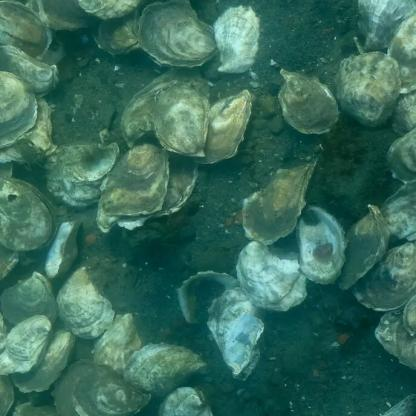3: (139, 0, 217, 69), (0, 177, 58, 253)
Oyster-Closed: (96, 151, 198, 233), (101, 133, 169, 216), (208, 287, 265, 381), (46, 142, 120, 208), (338, 205, 389, 289), (0, 70, 37, 148), (46, 223, 79, 278), (0, 243, 19, 282)
Oyster-Open: (242, 145, 322, 242), (121, 68, 210, 148), (52, 361, 151, 416), (236, 241, 306, 312), (338, 51, 401, 128), (349, 242, 416, 313), (193, 89, 252, 164), (56, 266, 115, 340), (152, 81, 208, 157), (124, 343, 207, 394), (12, 330, 76, 393), (0, 94, 57, 164), (279, 70, 340, 135), (214, 4, 265, 74), (0, 316, 52, 376), (0, 46, 60, 98), (0, 1, 52, 59), (94, 313, 143, 374), (1, 272, 58, 324), (358, 0, 416, 51), (91, 4, 141, 54), (375, 313, 416, 369), (387, 16, 416, 94), (382, 180, 416, 242), (37, 0, 100, 30), (386, 128, 416, 183), (160, 387, 214, 416), (78, 0, 142, 20), (392, 90, 416, 135), (176, 394, 204, 416), (0, 375, 14, 416), (403, 293, 416, 336), (14, 405, 61, 416), (0, 163, 12, 178)
